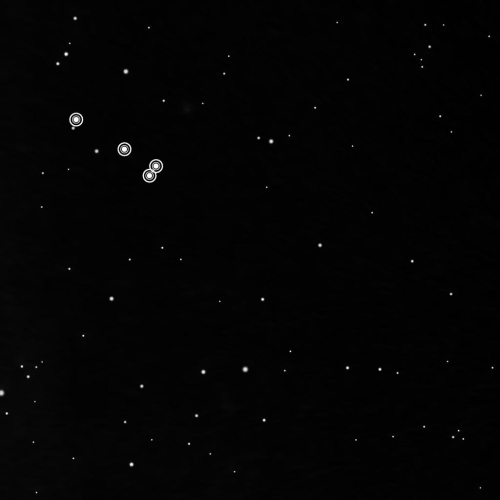sagitta: (65, 108, 168, 187)
